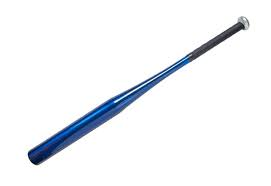baseball bat: (27, 15, 251, 165)
